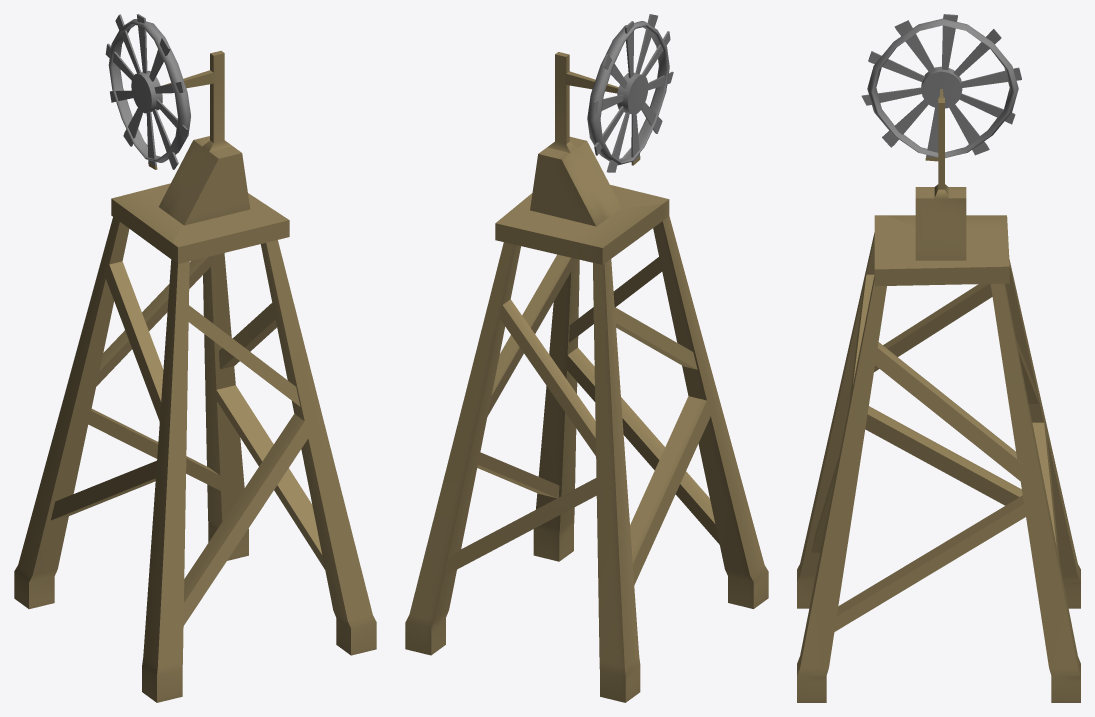
File: Windmill.fbx
3 renders of one model, left to right at view 1: azimuth 30°, elevation 25°; view 2: azimuth 150°, elevation 25°; view 3: azimuth 270°, elevation 25°, orthographic.
Parts seen in each view (by area): view 1: pCube7; view 2: pCube7; view 3: pCube7.
Part boxes in pixels (x1=…): pCube7: x1=14, y1=14, x2=376, y2=702; pCube7: x1=405, y1=14, x2=768, y2=702; pCube7: x1=797, y1=14, x2=1080, y2=702.
Bounding box in the file's own units: 6.05 × 16.18 × 6.8.
